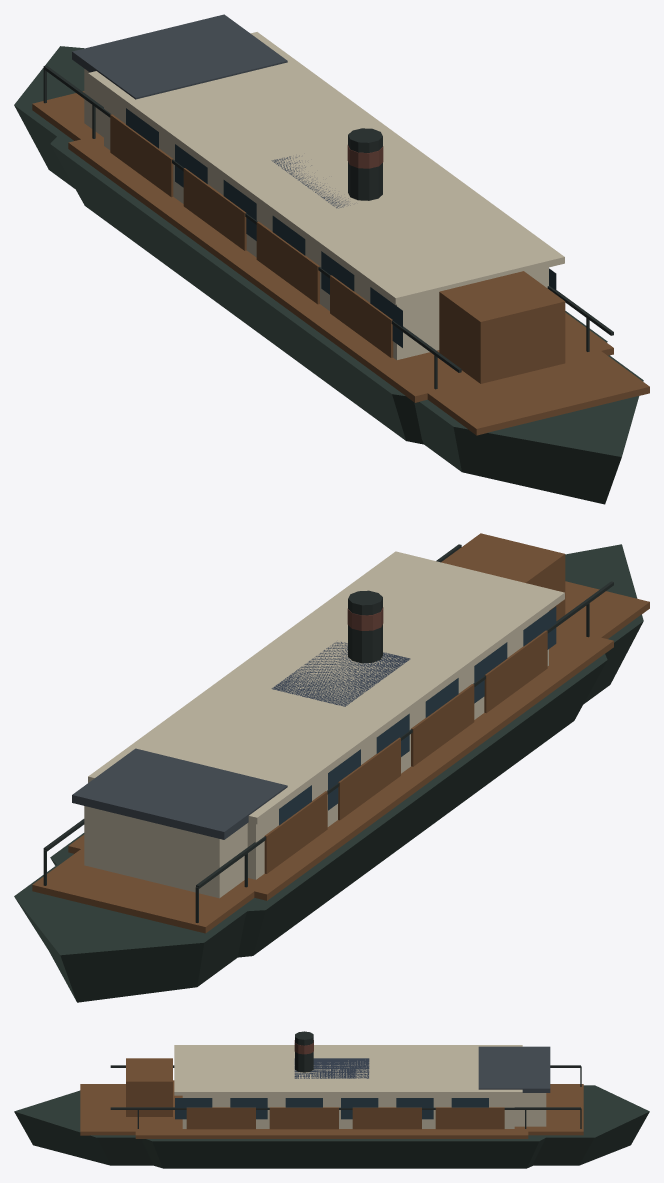
File: paris-life.glb
3 views of the same model, one above another, from view 1: azimuth 30°, elevation 25°; view 2: azimuth 150°, elevation 25°; view 3: azimuth 270°, elevation 25° (orthographic). The views are drawn at different scales.
Visible parts, largest first — view 1: body-cream.036, body-timber.074, body-timber.075, body-hull.036, body-hull.037, body-slate.018, body-glass.018, body-iron.113, body-cream.037; view 2: body-cream.036, body-timber.075, body-hull.036, body-timber.074, body-hull.037, body-slate.018, body-cream.037, body-glass.018, body-cloth.056, body-iron.113; view 3: body-cream.036, body-hull.037, body-timber.075, body-hull.036, body-timber.074, body-slate.018, body-glass.018, body-iron.113, body-cloth.056, body-cream.037.
Part boxes in pixels (x1,y1,x2,y2): body-cream.036: (88,32,564,359); body-timber.074: (32,91,649,435); body-timber.075: (68,114,613,402); body-hull.036: (14,46,643,504); body-hull.037: (50,132,607,444); body-slate.018: (72,14,287,99); body-glass.018: (126,108,556,347); body-iron.113: (43,65,613,389); body-cream.037: (84,69,103,137); body-cream.036: (88,551,564,879); body-timber.075: (68,627,613,900); body-hull.036: (14,544,643,1002); body-timber.074: (32,533,649,933); body-hull.037: (50,580,607,957); body-slate.018: (72,748,287,839); body-cream.037: (84,806,247,898); body-glass.018: (279,606,556,825); body-cloth.056: (271,642,410,706); body-iron.113: (43,544,613,922); body-cream.036: (174,1045,522,1128); body-hull.037: (69,1106,593,1168); body-timber.075: (135,1080,528,1138); body-hull.036: (14,1085,649,1165); body-timber.074: (80,1058,583,1135); body-slate.018: (478,1046,550,1092); body-glass.018: (175,1098,488,1119); body-iron.113: (110,1031,581,1128); body-cloth.056: (294,1058,369,1078); body-cream.037: (514,1093,546,1126).
Bounding box in the file's own units: 5.1 × 4.37 × 23.
